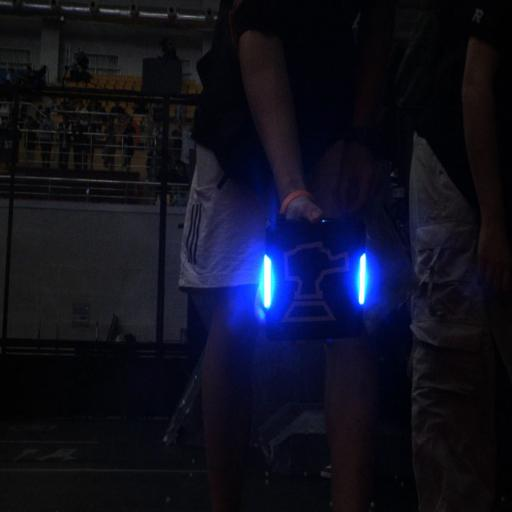target: (260, 214, 372, 342)
